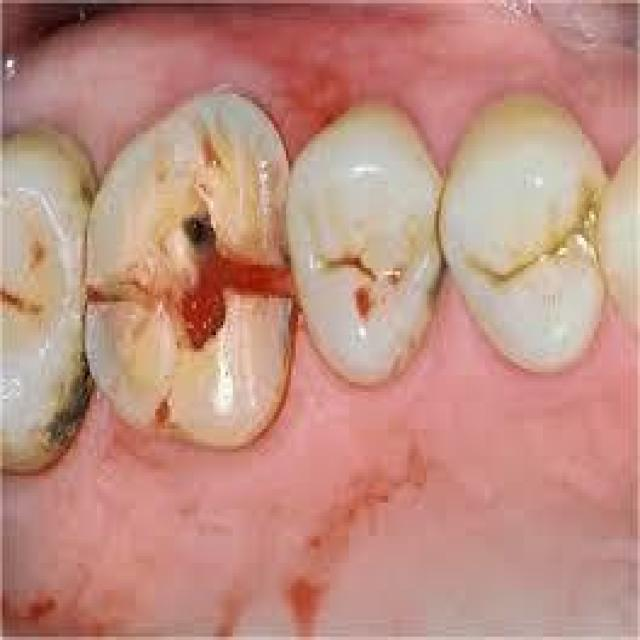Caries: (44, 352, 87, 446), (182, 211, 213, 258), (327, 258, 376, 281), (356, 288, 371, 322)
Cavity: (87, 194, 291, 352)
Tooth: (87, 87, 298, 449), (441, 90, 608, 379), (288, 107, 441, 389), (0, 127, 95, 472)
